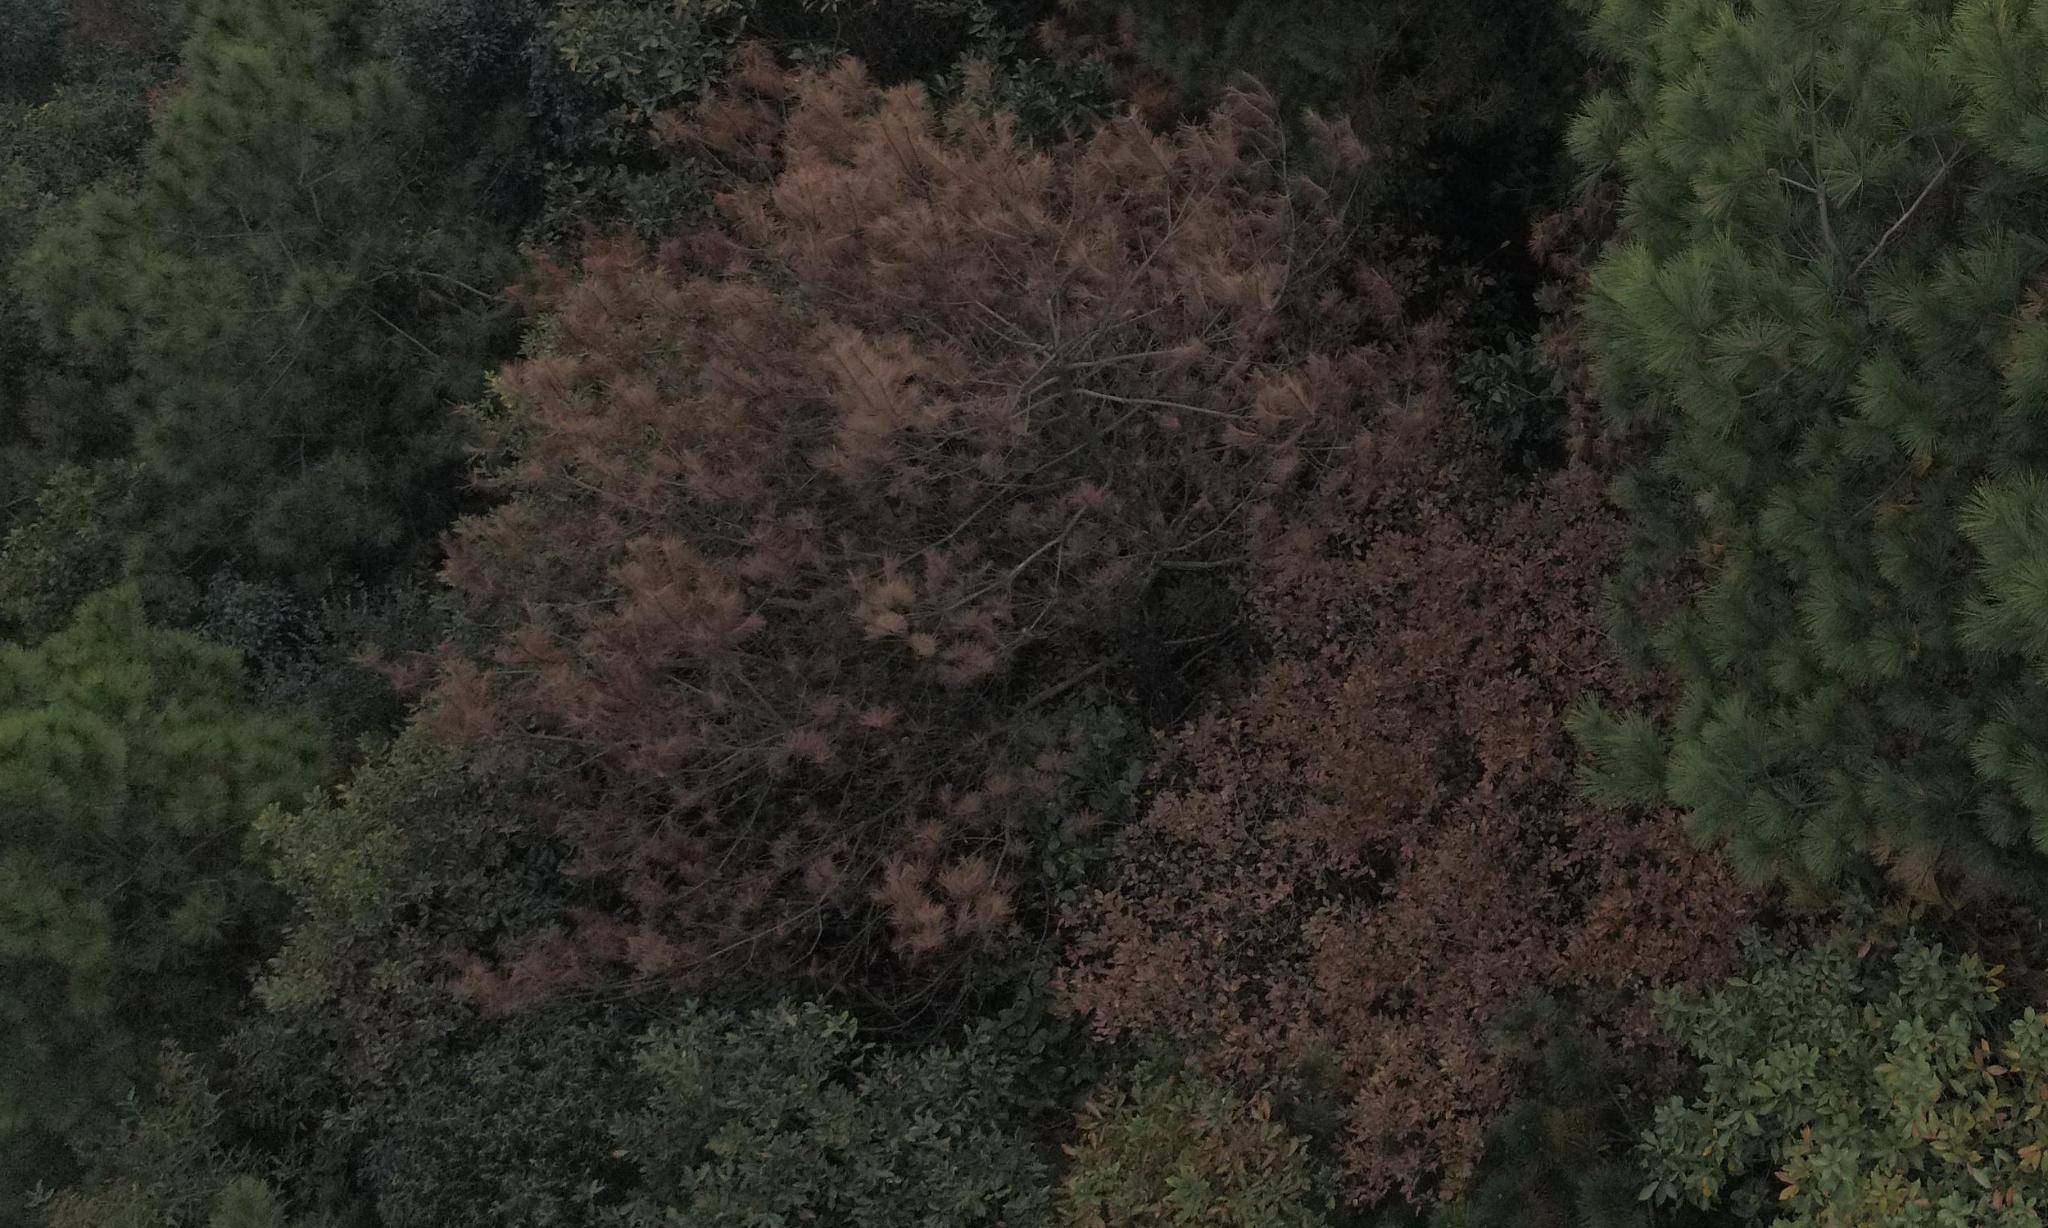heavy: (395, 28, 1377, 1022)
